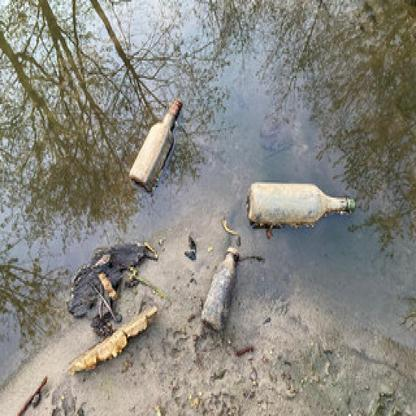plastic bottle: (247, 181, 357, 224), (129, 101, 182, 185), (202, 248, 240, 328)
